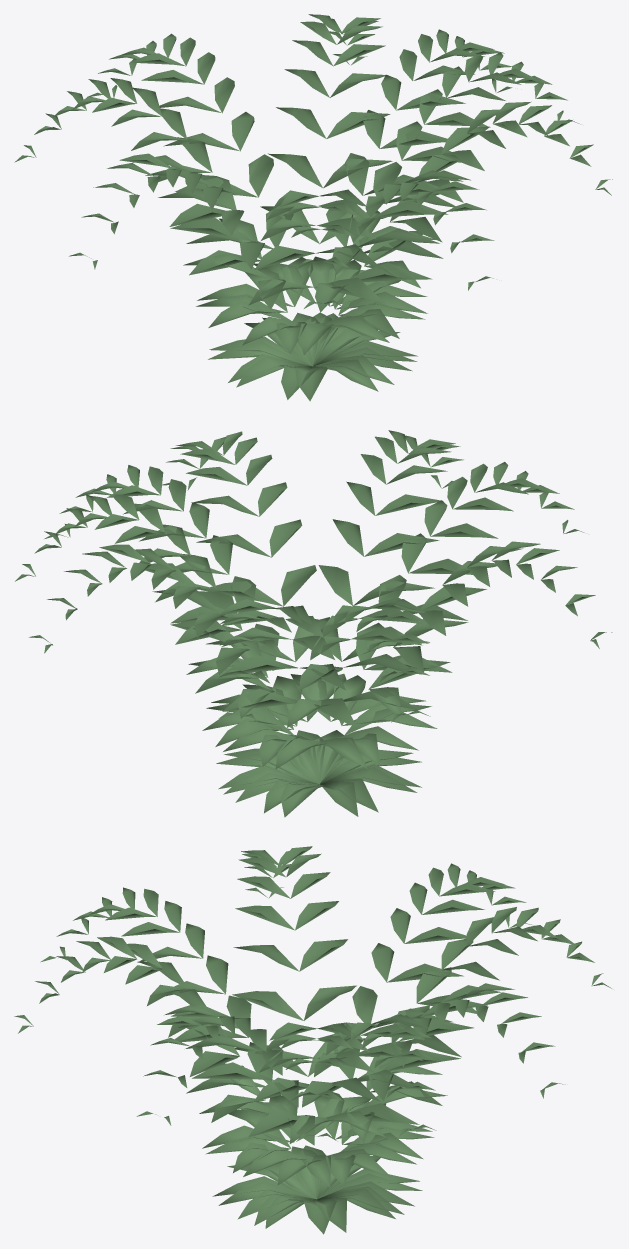
Rendered from fern.glb.
3 views of the same model, one above another, from view 1: azimuth 30°, elevation 25°; view 2: azimuth 150°, elevation 25°; view 3: azimuth 270°, elevation 25° (orthographic).
Parts seen in each view (by area): view 1: SM_fern_bed_LOD; view 2: SM_fern_bed_LOD; view 3: SM_fern_bed_LOD.
Boxes of the visible parts, <box> form: SM_fern_bed_LOD: <box>14,14,612,401</box>; SM_fern_bed_LOD: <box>15,430,612,817</box>; SM_fern_bed_LOD: <box>14,846,611,1234</box>.
Bounding box in the file's own units: 1.27 × 0.5968 × 1.26.
